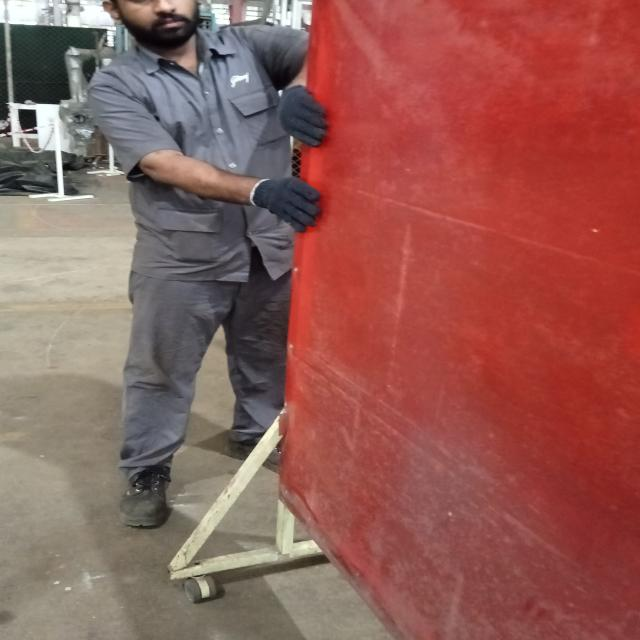Gloves-Detection: (251, 172, 321, 235), (268, 82, 332, 145)
